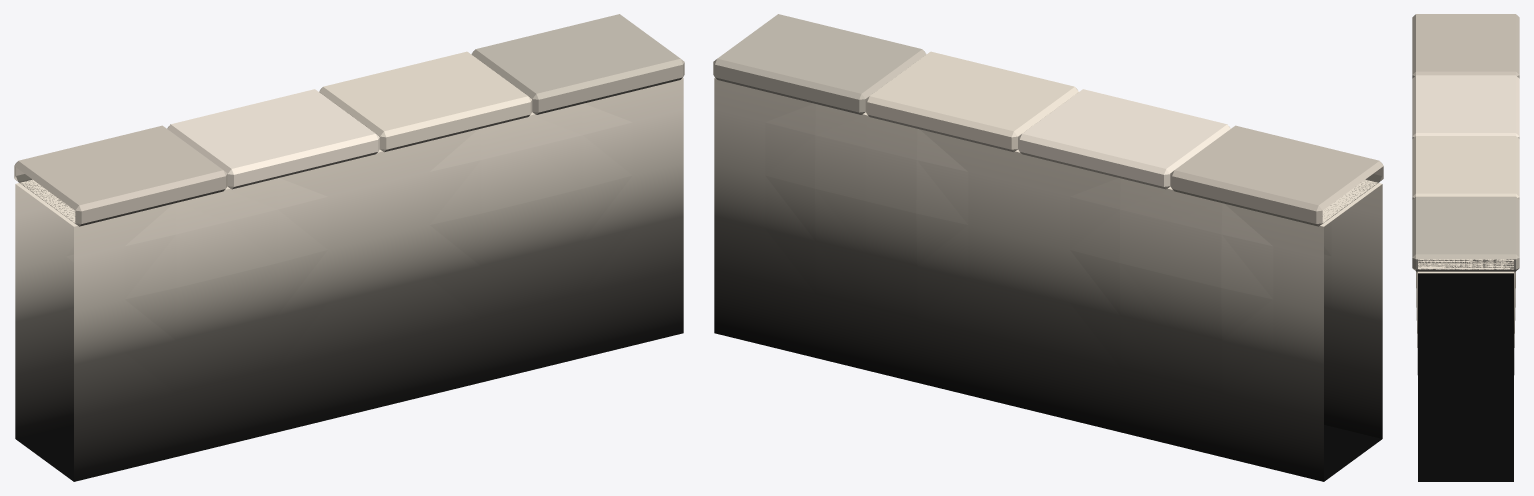
File: SM_VKI_Wall_Sewer_Plain_300_Cut.fbx
3 renders of one model, left to right at view 1: azimuth 30°, elevation 25°; view 2: azimuth 150°, elevation 25°; view 3: azimuth 270°, elevation 25°, orthographic. The views are drawn at different scales.
Visible parts, largest first — view 1: SM_VKI_Wall_Sewer_Plain_300_Cut.001; view 2: SM_VKI_Wall_Sewer_Plain_300_Cut.001; view 3: SM_VKI_Wall_Sewer_Plain_300_Cut.001.
Boxes of the visible parts, bbox=[...] form: SM_VKI_Wall_Sewer_Plain_300_Cut.001: bbox=[14, 14, 684, 481]; SM_VKI_Wall_Sewer_Plain_300_Cut.001: bbox=[713, 14, 1383, 481]; SM_VKI_Wall_Sewer_Plain_300_Cut.001: bbox=[1412, 14, 1519, 481].
Size of the model in its own units: 3 by 1.3 by 0.56.
